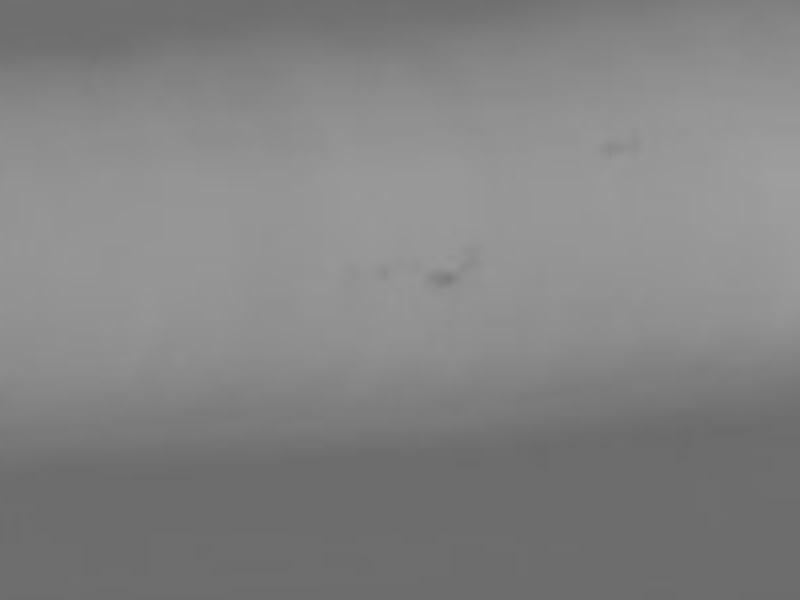defect: (454, 242, 488, 271), (602, 130, 640, 155), (423, 264, 455, 290), (346, 267, 371, 289), (374, 262, 396, 284)
